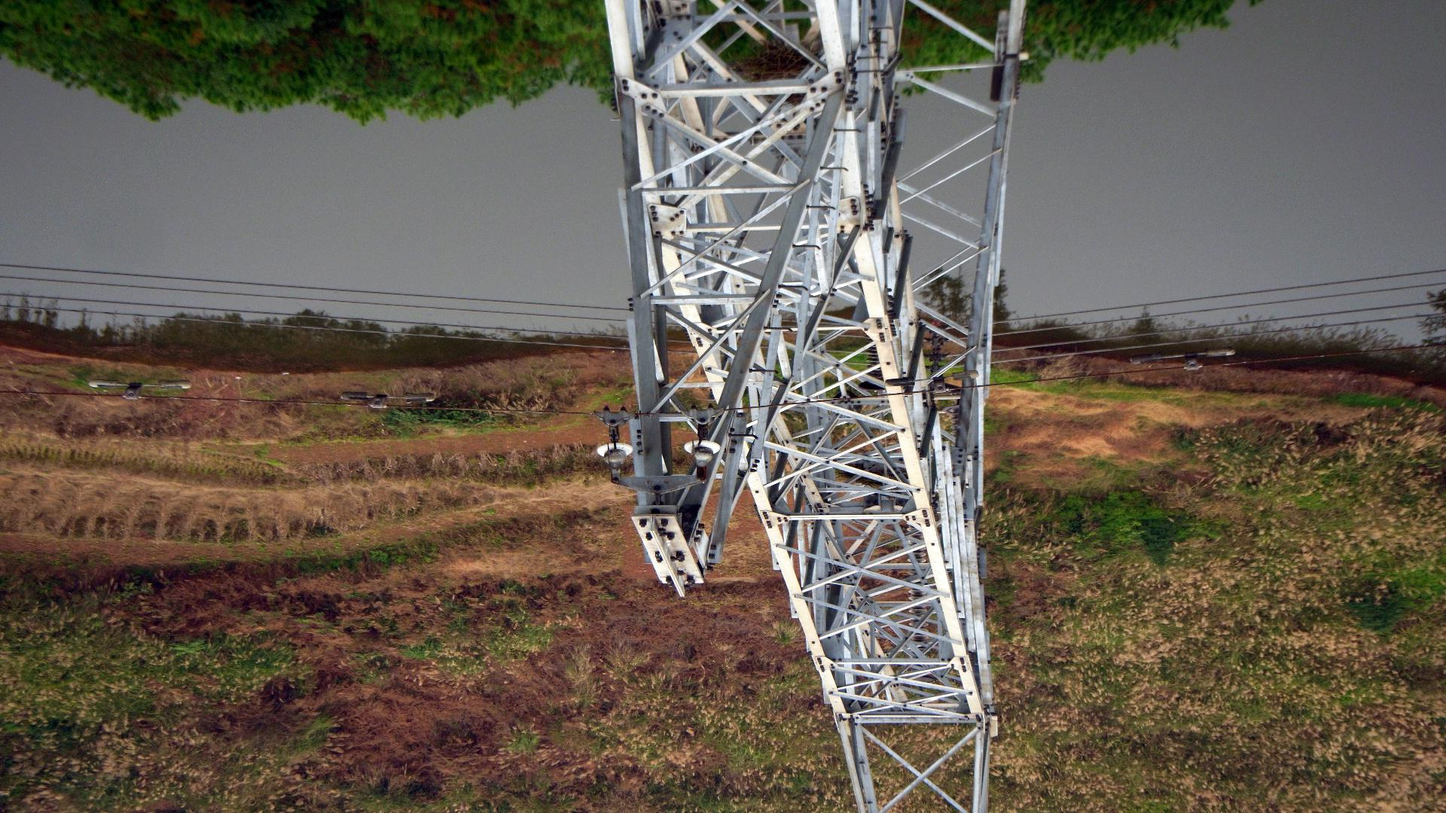damper: (1125, 343, 1240, 375), (882, 367, 982, 400), (83, 376, 196, 404), (334, 388, 438, 413)
nest: (729, 35, 812, 83)
